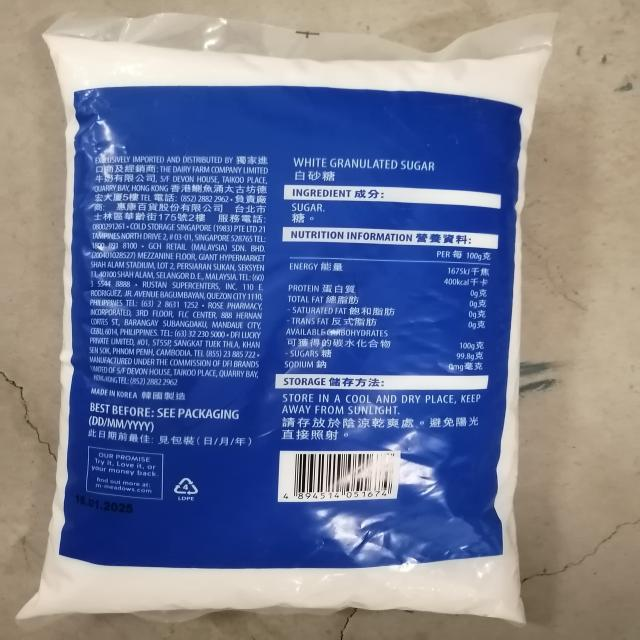object_name: (56, 35, 521, 614)
